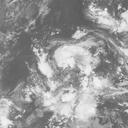cyclone: (46, 40, 102, 107)
